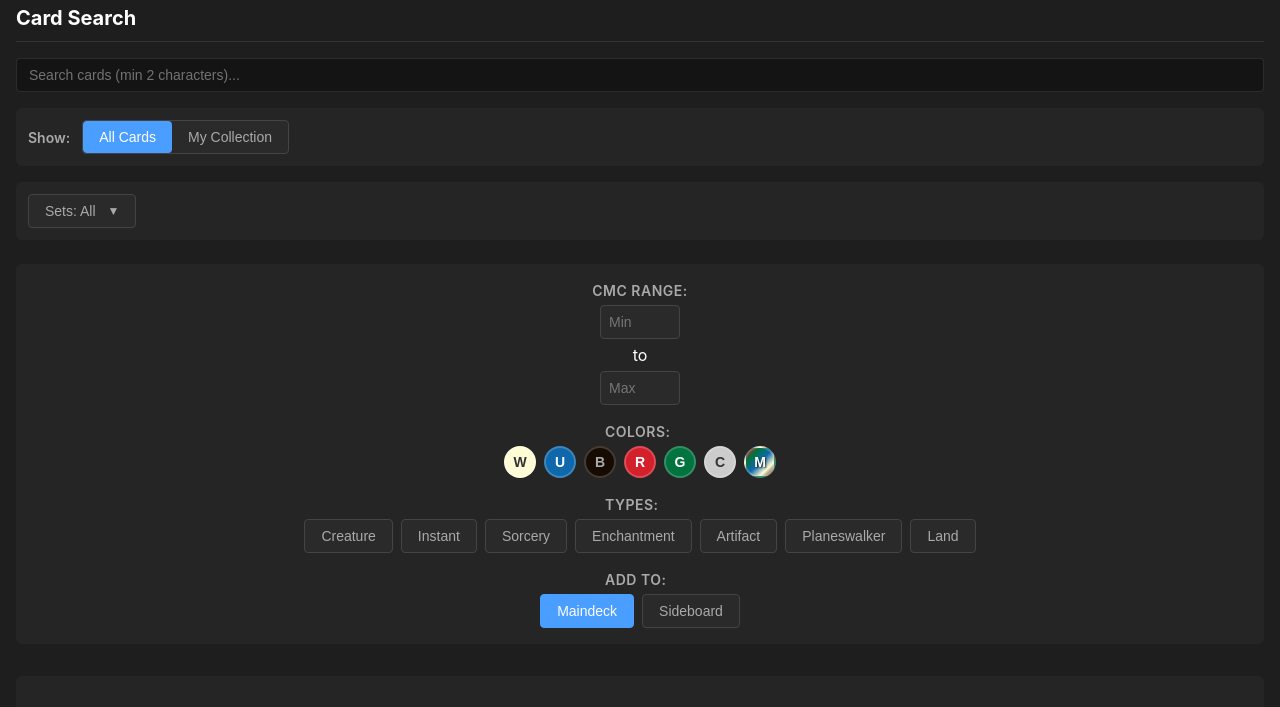
Test: CardSearch Component › Constructed Mode › should display "Not owned" for cards not in collection
In the field with placeholder "Search cards (min 2 characters)...": x=640, y=75 [16,58,1264,92], type "test"
(page scrolled)
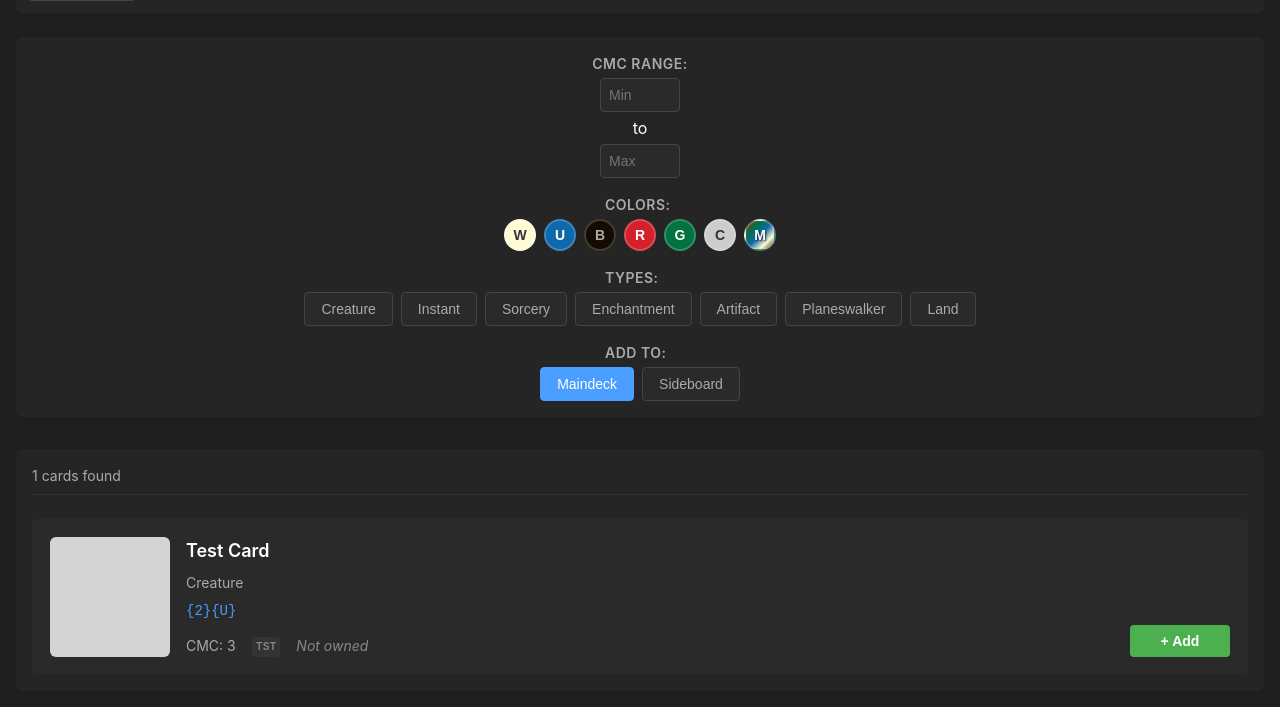
Now the text "Not owned" is shown, box [296,635,368,657]
